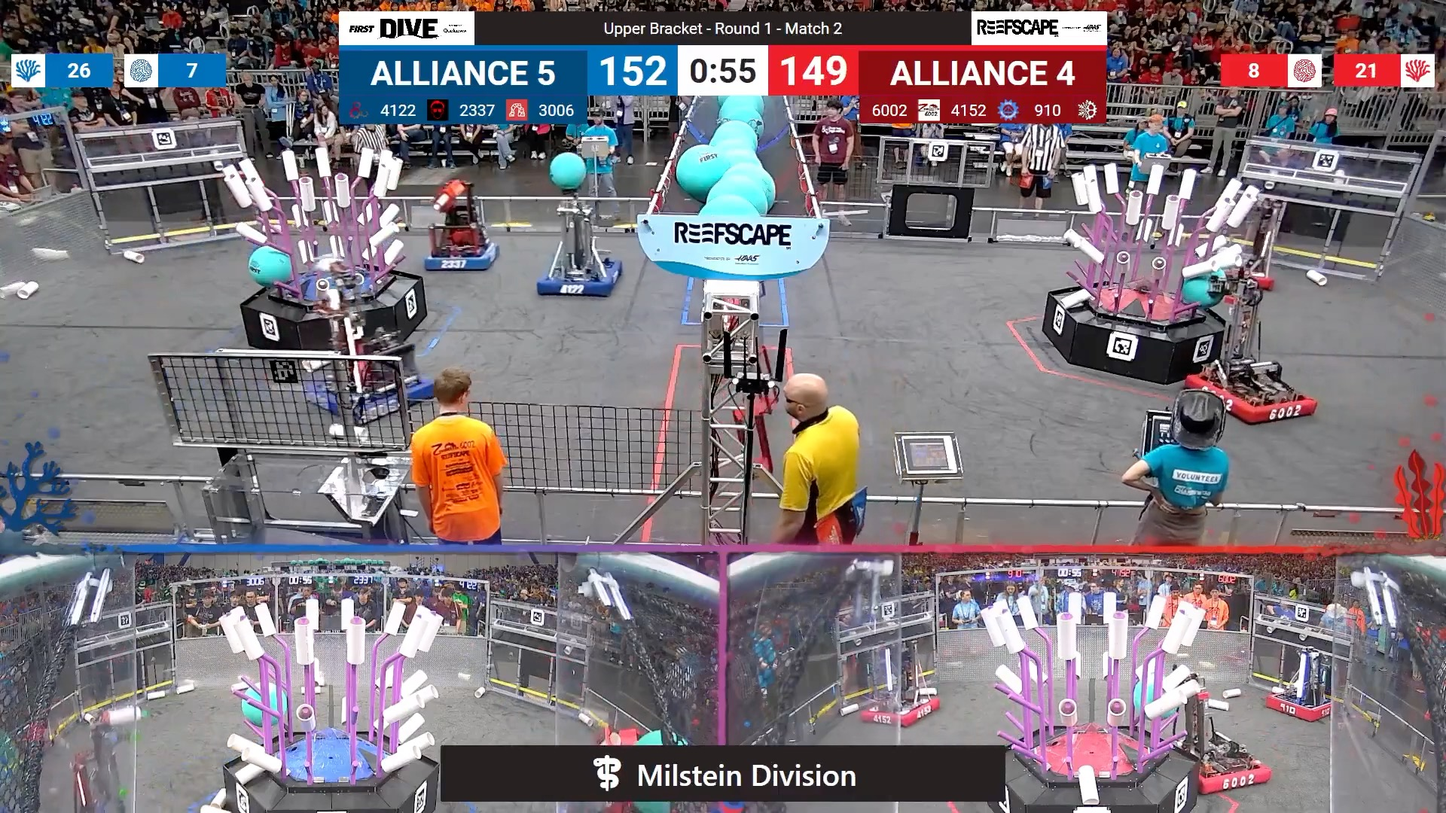bumpers: (1182, 367, 1325, 431), (296, 367, 438, 422), (1179, 744, 1277, 795), (531, 255, 627, 300), (415, 235, 505, 276), (855, 691, 946, 728), (1258, 691, 1342, 723)
